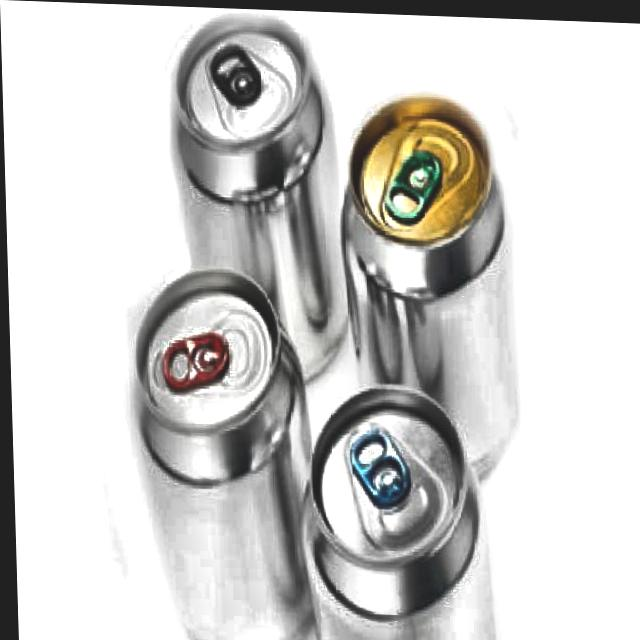can: (334, 79, 527, 494), (152, 4, 348, 391), (116, 262, 312, 640), (295, 377, 492, 640)
